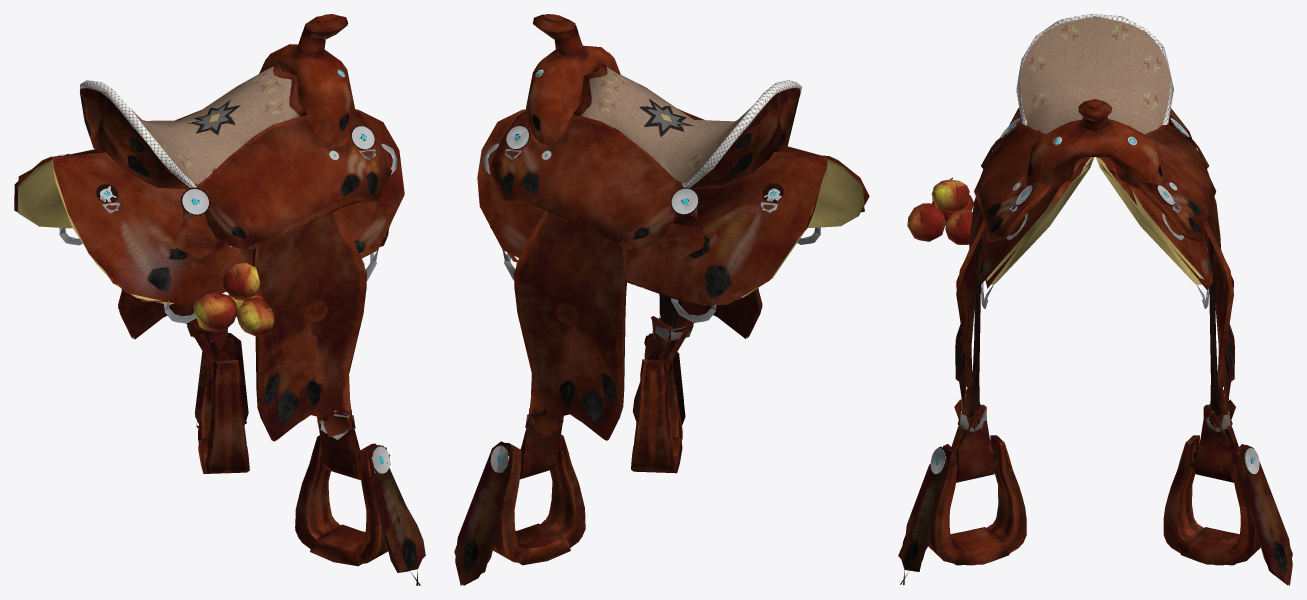
The model's file is saddle_western.glb.
3 views of the same model, side by side, from view 1: azimuth 30°, elevation 25°; view 2: azimuth 150°, elevation 25°; view 3: azimuth 270°, elevation 25° (orthographic).
Parts seen in each view (by area): view 1: defaultMaterial.008, defaultMaterial.015, defaultMaterial.045, defaultMaterial.014, defaultMaterial.017, defaultMaterial.029, defaultMaterial.048, defaultMaterial.019, defaultMaterial.006, defaultMaterial.002, defaultMaterial.004, defaultMaterial.018 (+2 smaller); view 2: defaultMaterial.008, defaultMaterial.015, defaultMaterial.019, defaultMaterial.014, defaultMaterial.029, defaultMaterial.017, defaultMaterial.018, defaultMaterial.045, defaultMaterial.048, defaultMaterial.033, defaultMaterial.043; view 3: defaultMaterial.008, defaultMaterial.015, defaultMaterial.014, defaultMaterial.017, defaultMaterial.029, defaultMaterial.045, defaultMaterial.019, defaultMaterial.018, defaultMaterial.048, defaultMaterial.002, defaultMaterial.049, defaultMaterial.050 (+2 smaller).
Boxes of the visible parts, <box> form: defaultMaterial.008: <box>79,63,391,259</box>; defaultMaterial.015: <box>14,109,404,305</box>; defaultMaterial.045: <box>252,211,367,480</box>; defaultMaterial.014: <box>259,14,354,145</box>; defaultMaterial.017: <box>295,435,387,566</box>; defaultMaterial.029: <box>198,337,249,473</box>; defaultMaterial.048: <box>369,460,425,585</box>; defaultMaterial.019: <box>118,289,233,379</box>; defaultMaterial.006: <box>193,292,237,331</box>; defaultMaterial.002: <box>236,297,274,336</box>; defaultMaterial.004: <box>223,262,260,300</box>; defaultMaterial.018: <box>194,333,248,427</box>; defaultMaterial.008: <box>489,63,802,258</box>; defaultMaterial.015: <box>477,109,869,305</box>; defaultMaterial.019: <box>513,210,628,479</box>; defaultMaterial.014: <box>526,14,620,145</box>; defaultMaterial.029: <box>493,434,585,565</box>; defaultMaterial.017: <box>631,337,682,473</box>; defaultMaterial.018: <box>454,441,515,585</box>; defaultMaterial.045: <box>647,288,762,378</box>; defaultMaterial.048: <box>632,352,685,425</box>; defaultMaterial.033: <box>525,409,563,438</box>; defaultMaterial.043: <box>671,188,697,214</box>; defaultMaterial.008: <box>974,14,1216,242</box>; defaultMaterial.015: <box>976,108,1214,289</box>; defaultMaterial.014: <box>1025,99,1164,188</box>; defaultMaterial.017: <box>928,435,1026,565</box>; defaultMaterial.029: <box>1163,435,1260,565</box>; defaultMaterial.045: <box>951,197,996,482</box>; defaultMaterial.019: <box>1194,197,1238,482</box>; defaultMaterial.018: <box>1238,445,1292,585</box>; defaultMaterial.048: <box>898,463,947,584</box>; defaultMaterial.002: <box>907,203,945,241</box>; defaultMaterial.049: <box>962,237,981,434</box>; defaultMaterial.050: <box>1208,237,1228,434</box>.
Size of the model in its own units: 0.5896 by 0.8691 by 0.6393.
1 material, 1 textured.
